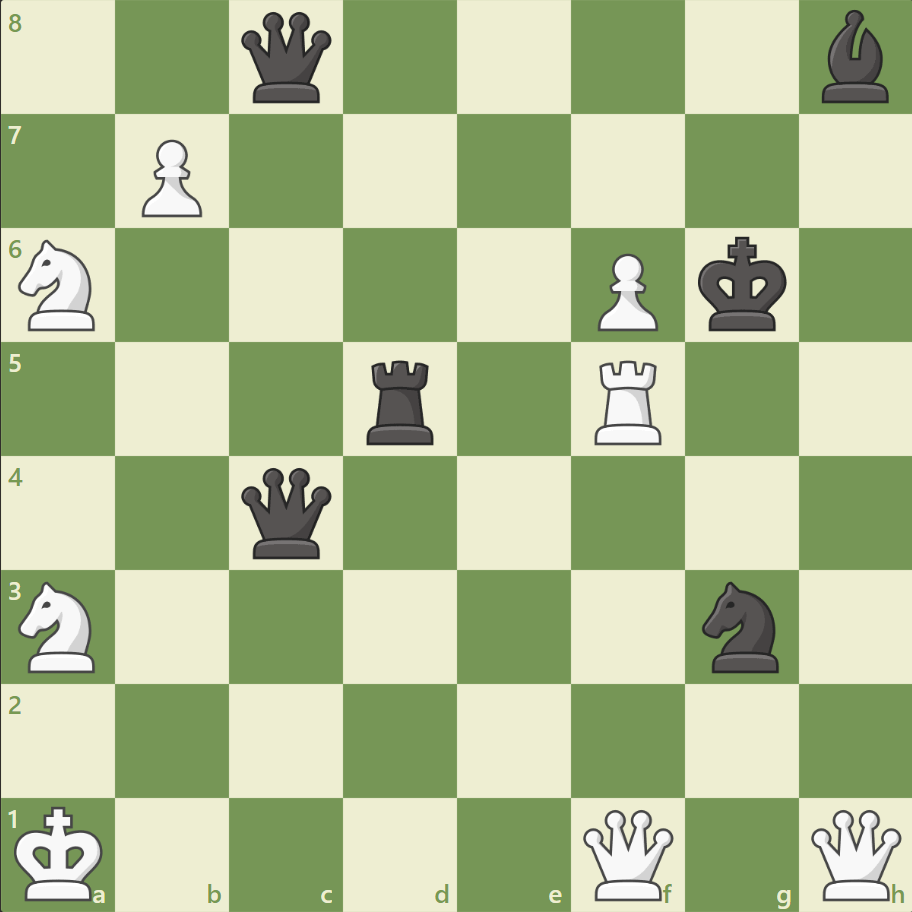K: (11, 798, 111, 906)
N: (11, 234, 108, 337), (11, 575, 108, 677)
P: (133, 132, 208, 223), (588, 246, 662, 337)
Q: (578, 804, 677, 903), (805, 804, 904, 903)
R: (587, 352, 670, 449)
b: (812, 6, 896, 109)
k: (692, 231, 792, 339)
n: (692, 575, 789, 677)
q: (237, 9, 336, 108), (237, 463, 336, 562)
r: (360, 352, 442, 449)
